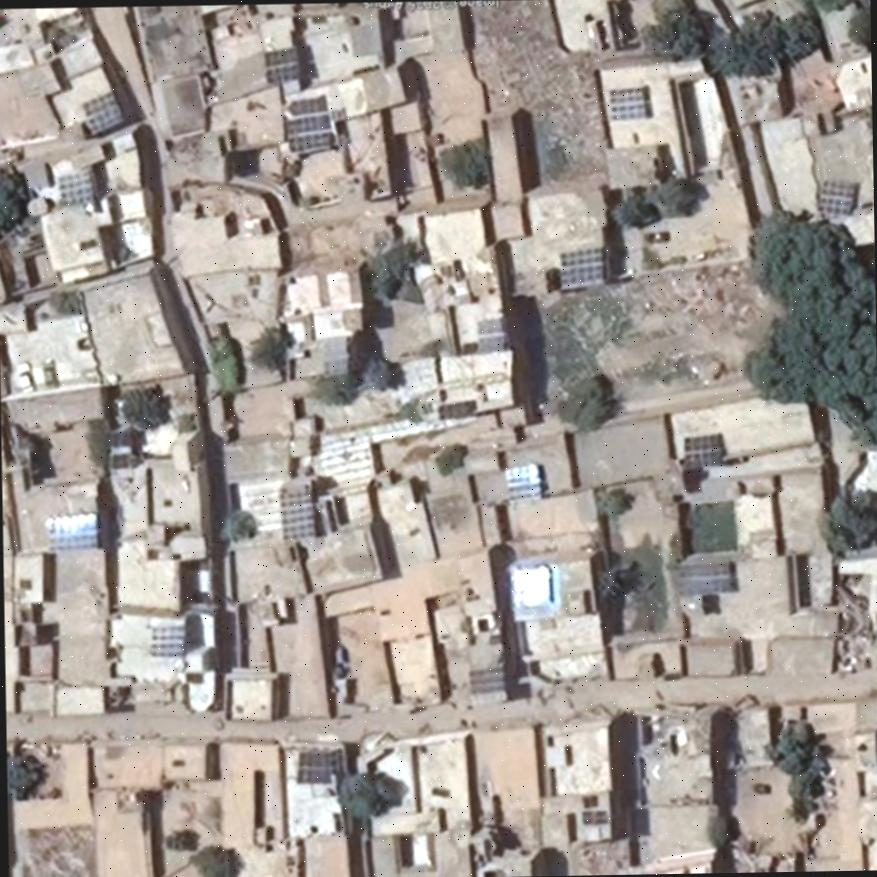Solarpanel: (276, 489, 311, 538), (81, 94, 122, 134), (510, 565, 549, 606), (816, 177, 858, 215), (48, 512, 94, 546), (560, 250, 602, 283), (680, 436, 723, 468), (297, 749, 336, 782), (56, 171, 93, 204), (607, 88, 645, 120), (504, 464, 537, 500), (149, 623, 182, 656), (287, 132, 331, 152), (284, 116, 328, 132), (264, 63, 302, 81), (284, 98, 323, 113), (265, 46, 295, 65)
